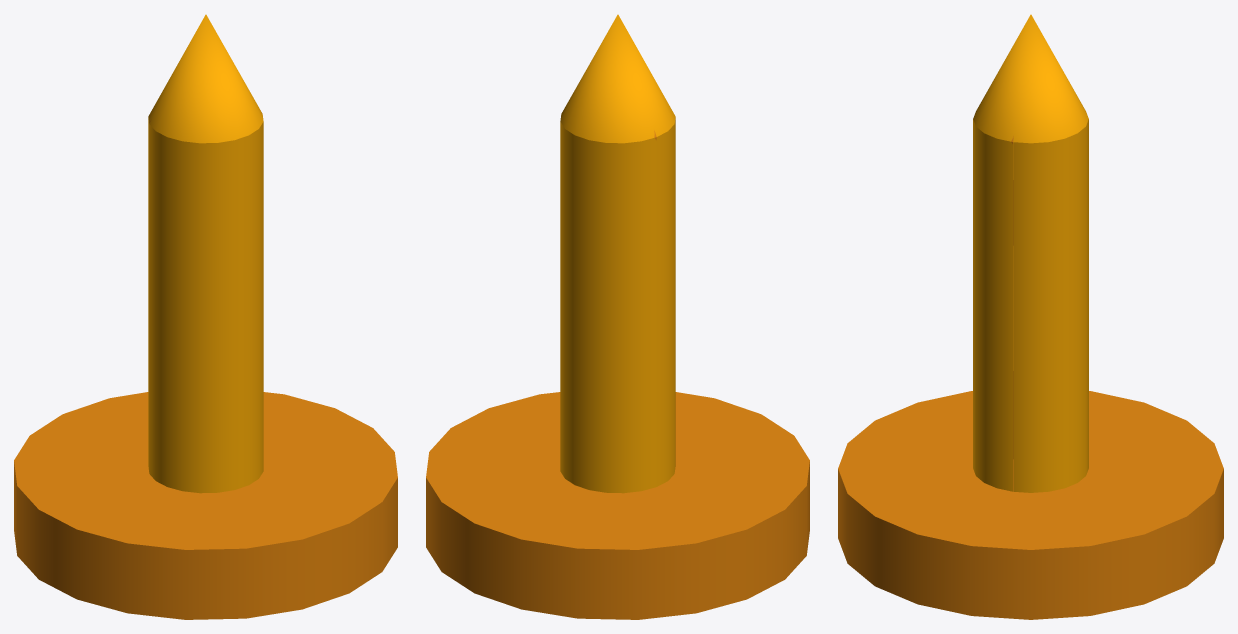
File: screw.fbx
3 views of the same model, side by side, from view 1: azimuth 30°, elevation 25°; view 2: azimuth 150°, elevation 25°; view 3: azimuth 270°, elevation 25° (orthographic).
Visible parts, largest first — view 1: pCylinder3; view 2: pCylinder3; view 3: pCylinder3.
Part boxes in pixels (x1,y1,x2,y2): pCylinder3: (14, 14, 397, 619); pCylinder3: (426, 14, 809, 619); pCylinder3: (838, 14, 1223, 619).
Bounding box in the file's own units: 2 × 3 × 2.
Materials: 1 (1 with a texture image).
